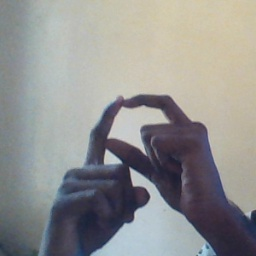D: (75, 91, 203, 215)
